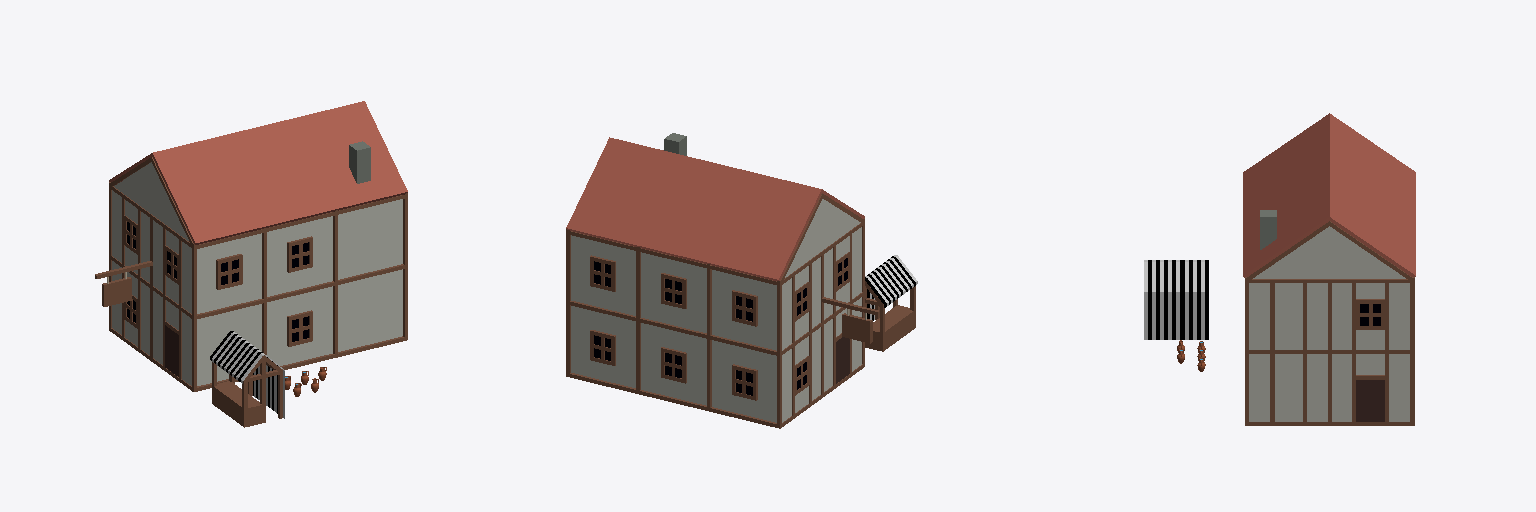
Rendered from timberframedpotter_black_white.obj.
The picture shows the model from 3 angles: view 1: azimuth 30°, elevation 25°; view 2: azimuth 150°, elevation 25°; view 3: azimuth 270°, elevation 25°; orthographic projection.
Visible parts, largest first — view 1: Cube.005, Cube.007_Cube.011, Cube.011_Cube.015, Cube.018_Cube.016, Cube.056_Cube.081, Cube.001_Cube.058, Cube.013_Cube.080, Cube.006_Cube.010, Cube.055_Cube.059, Cube.026_Cube.019, Cube.073_Cube.078, Cube.012_Cube.017 (+5 smaller); view 2: Cube.005, Cube.007_Cube.011, Cube.022_Cube.025, Cube.023_Cube.026, Cube.021_Cube.024, Cube.015_Cube.020, Cube.019_Cube.022, Cube.017_Cube.021, Cube.014_Cube.018, Cube.008, Cube.020_Cube.023, Cube.073_Cube.078 (+6 smaller); view 3: Cube.005, Cube.007_Cube.011, Cube.147_Cube.153, Cube.003, Cube.033, Cube.027, Cube.047_Cube.049, Cube.031, Cube.016_Cube.013, Cube.006_Cube.010, Cube.032, Cube.012_Cube.017 (+4 smaller).
Part boxes in pixels (x1,y1,x2,y2): Cube.005: (112,162,402,385); Cube.007_Cube.011: (109,101,407,244); Cube.011_Cube.015: (195,264,404,319); Cube.018_Cube.016: (195,195,406,249); Cube.056_Cube.081: (216,254,242,289); Cube.001_Cube.058: (287,310,312,346); Cube.013_Cube.080: (287,236,312,272); Cube.006_Cube.010: (349,141,370,183); Cube.055_Cube.059: (195,336,406,391); Cube.026_Cube.019: (192,243,196,391); Cube.073_Cube.078: (102,277,131,306); Cube.012_Cube.017: (403,193,407,339); Cube.005: (571,199,861,422); Cube.007_Cube.011: (566,137,864,280); Cube.022_Cube.025: (567,301,778,355); Cube.023_Cube.026: (567,373,776,427); Cube.021_Cube.024: (570,231,776,284); Cube.015_Cube.020: (732,290,757,326); Cube.019_Cube.022: (661,347,686,383); Cube.017_Cube.021: (590,330,615,365); Cube.014_Cube.018: (661,273,686,308); Cube.008: (590,255,615,291); Cube.020_Cube.023: (732,364,757,400); Cube.073_Cube.078: (842,313,872,343); Cube.005: (1249,226,1409,421); Cube.007_Cube.011: (1243,113,1415,277); Cube.147_Cube.153: (1144,292,1208,339); Cube.003: (1356,380,1384,421); Cube.033: (1356,299,1384,329); Cube.027: (1410,277,1414,425); Cube.047_Cube.049: (1270,279,1274,423); Cube.031: (1248,422,1410,425); Cube.016_Cube.013: (1248,350,1410,353); Cube.006_Cube.010: (1260,210,1276,249); Cube.032: (1248,279,1410,282); Cube.012_Cube.017: (1245,277,1248,425).
Size of the model in its own units: 15.3 by 11.25 by 13.34.